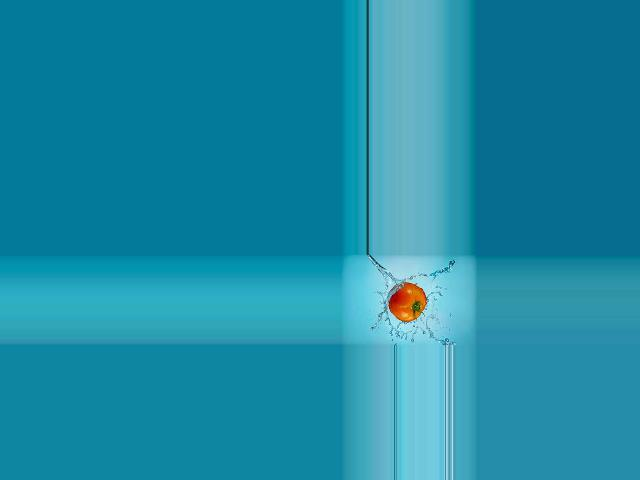tomato: (388, 282, 426, 322)
